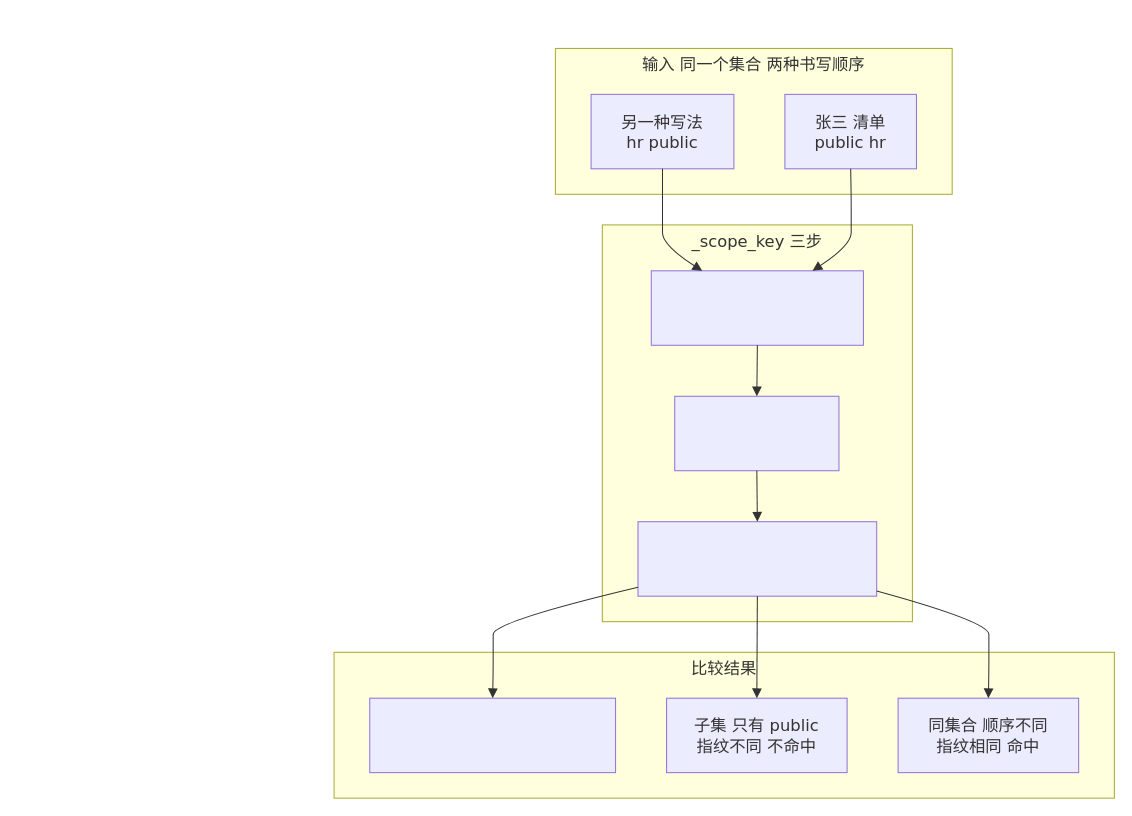
Some shapes in this 1132 by 816 pixel diagram are drawn without their labels. Each missing label, with the centre of its shape:
"① 排序 sorted 两者都成为 hr public" goes at (756,307).
"② 空字符拼接 消除边界歧义" goes at (756,433).
"③ SHA-256 再 hexdigest 得到定长指纹" goes at (757,558).
"空权限清单 指纹是空串的哈希 不命中" goes at (492,735).
